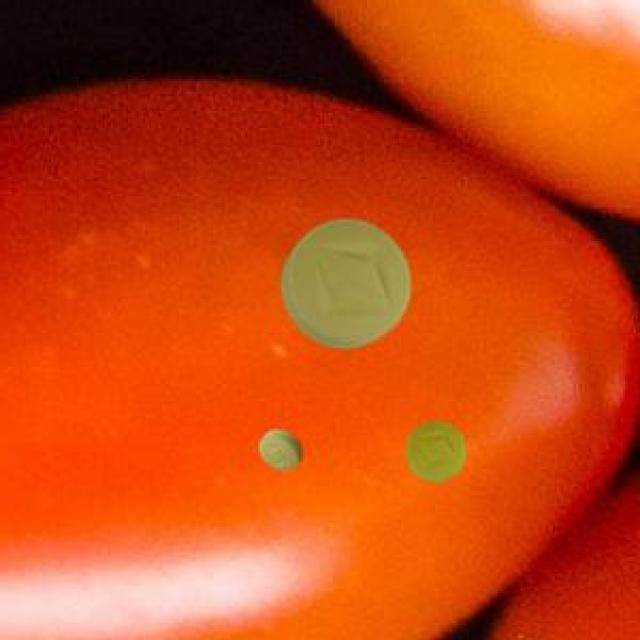Decolgen: (265, 208, 433, 362), (399, 408, 493, 502), (250, 410, 310, 487)
